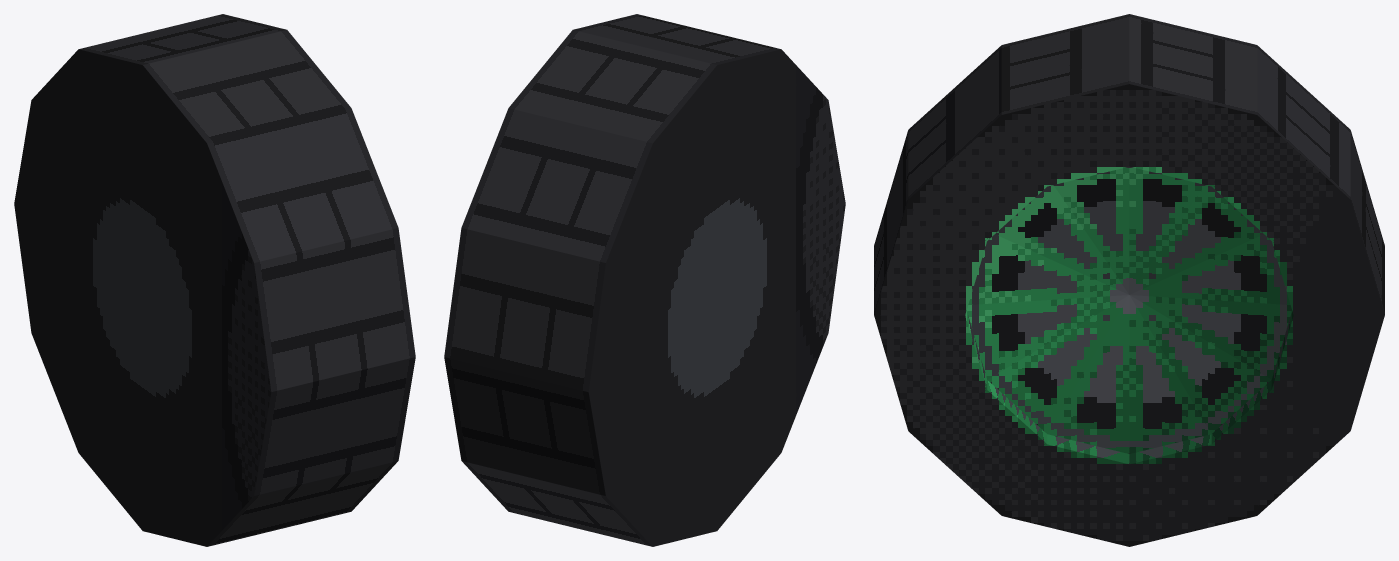
The model's file is wheel_window.glb.
3 views of the same model, side by side, from view 1: azimuth 30°, elevation 25°; view 2: azimuth 150°, elevation 25°; view 3: azimuth 270°, elevation 25° (orthographic).
Visible parts, largest first — view 1: wheel_window; view 2: wheel_window; view 3: wheel_window.
Part boxes in pixels (x1,y1,x2,y2): wheel_window: (14,14,415,546); wheel_window: (444,14,845,546); wheel_window: (874,14,1384,546).
Size of the model in its own units: 0.205 by 0.6319 by 0.6319.
Materials: 1 (1 with a texture image).
